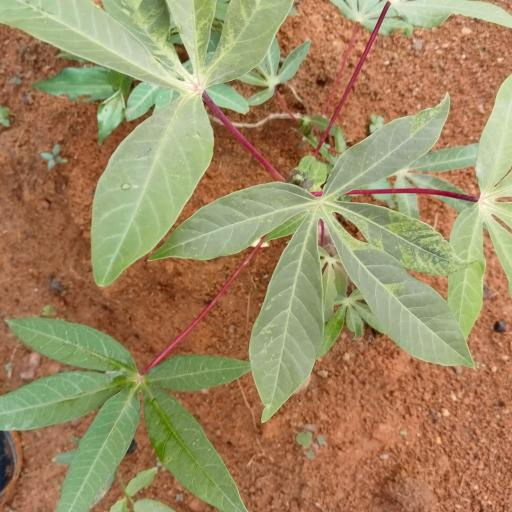Cassava_Mosaic: (169, 94, 454, 418)
